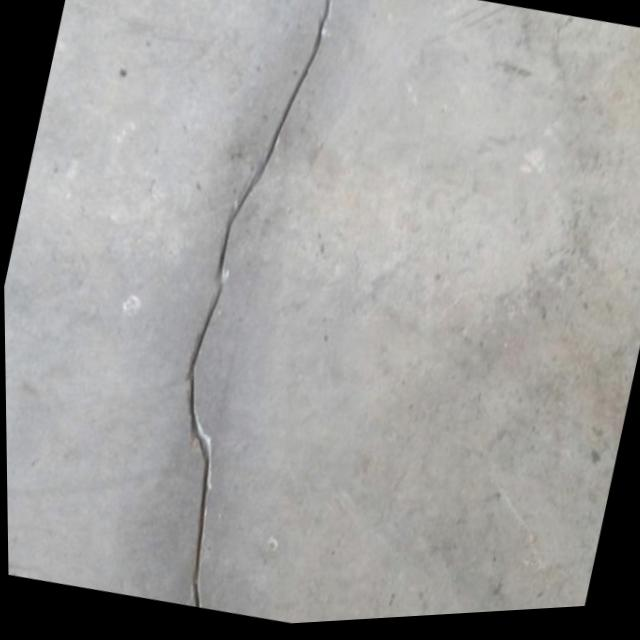Crack: (116, 0, 369, 620)
